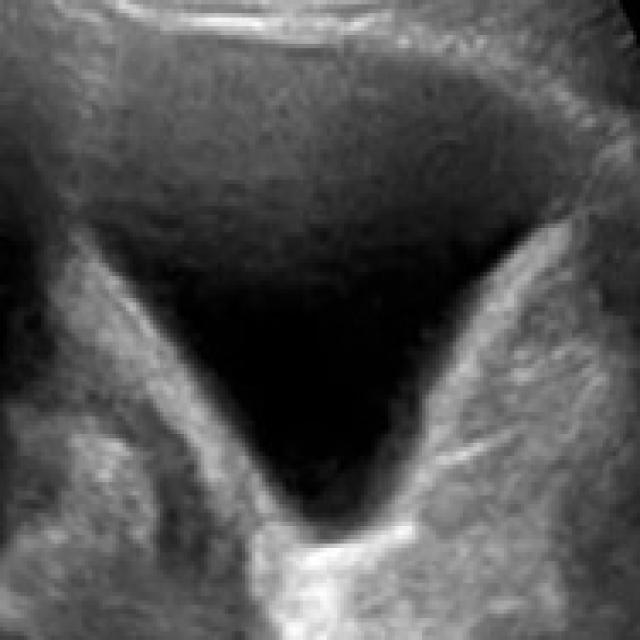bladder: (63, 10, 606, 591)
